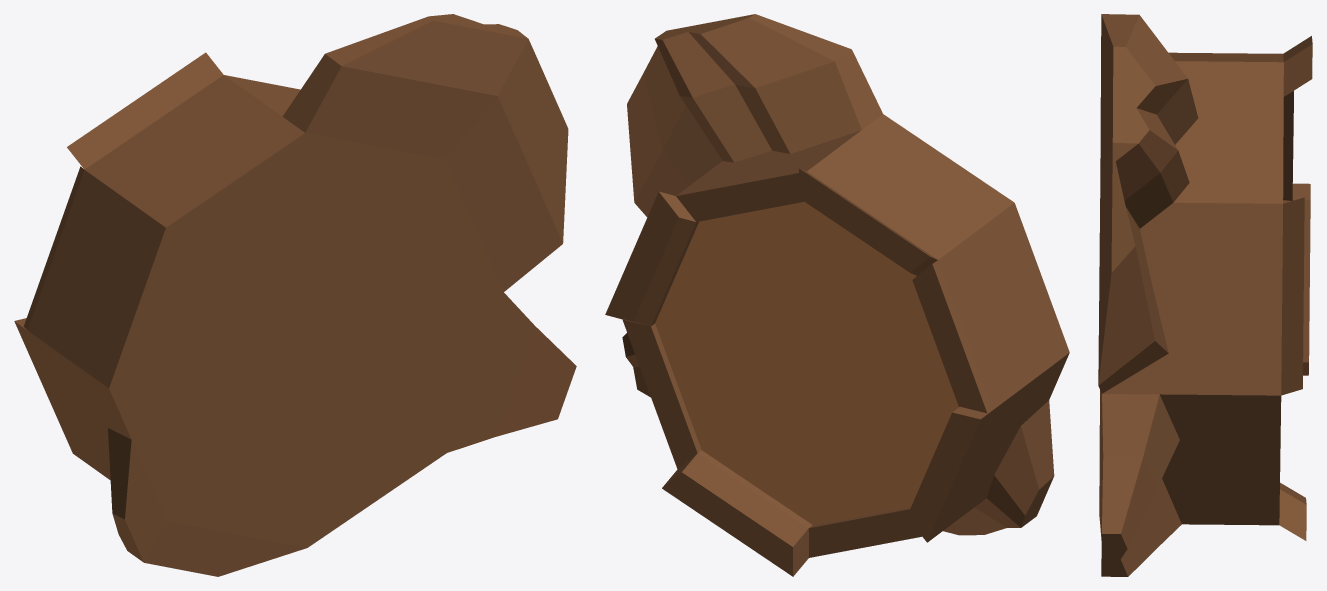
File: ENVI_Batang_kayu_nempel.fbx
3 views of the same model, side by side, from view 1: azimuth 30°, elevation 25°; view 2: azimuth 150°, elevation 25°; view 3: azimuth 270°, elevation 25° (orthographic). The views are drawn at different scales.
Parts seen in each view (by area): view 1: Batang kayu nempel; view 2: Batang kayu nempel; view 3: Batang kayu nempel.
Part boxes in pixels (x1,y1,x2,y2): Batang kayu nempel: (14, 14, 576, 576); Batang kayu nempel: (605, 14, 1069, 576); Batang kayu nempel: (1098, 14, 1312, 576).
Size of the model in its own units: 207 by 213 by 74.57.
